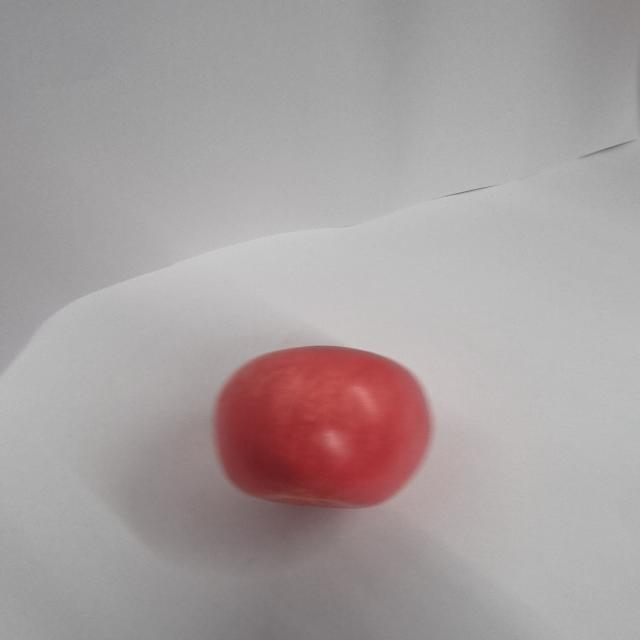apple: (216, 343, 432, 510)
